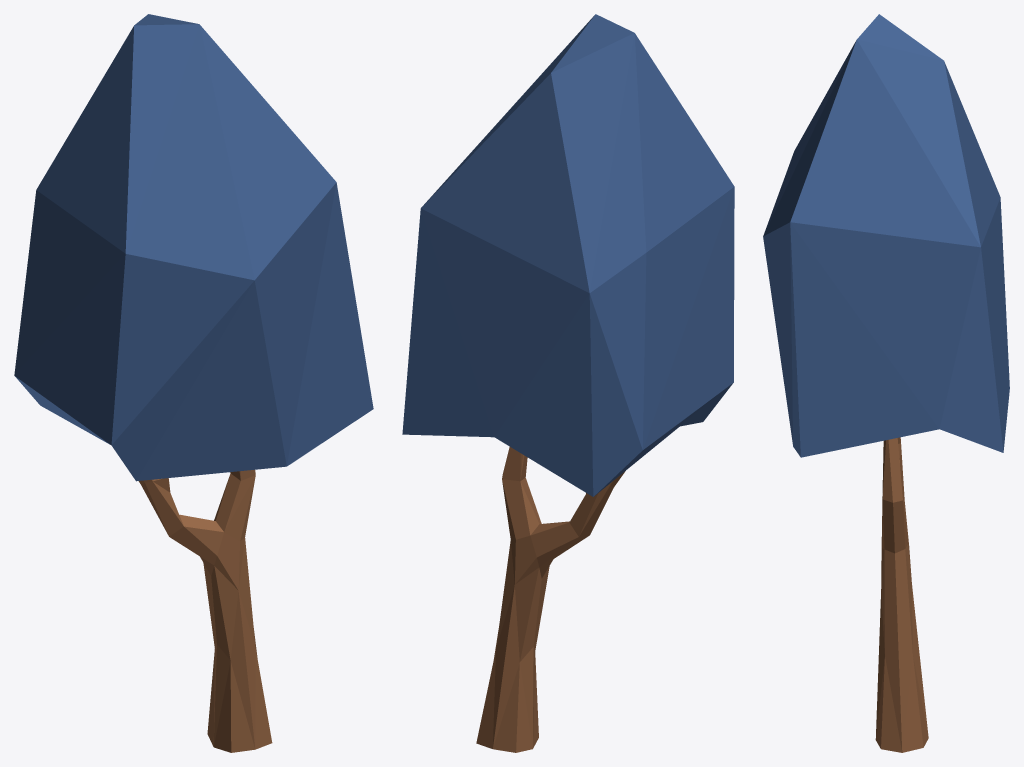
File: tree-winter-complete-7-011.glb
3 renders of one model, left to right at view 1: azimuth 30°, elevation 25°; view 2: azimuth 150°, elevation 25°; view 3: azimuth 270°, elevation 25°, orthographic. The views are drawn at different scales.
Parts seen in each view (by area): view 1: TREE 7.005_206, TREE 7.004_207; view 2: TREE 7.005_206, TREE 7.004_207; view 3: TREE 7.005_206, TREE 7.004_207.
Part boxes in pixels (x1=…): TREE 7.005_206: x1=14, y1=14, x2=373, y2=481; TREE 7.004_207: x1=138, y1=469, x2=272, y2=752; TREE 7.005_206: x1=402, y1=14, x2=734, y2=496; TREE 7.004_207: x1=476, y1=447, x2=625, y2=752; TREE 7.005_206: x1=763, y1=14, x2=1009, y2=457; TREE 7.004_207: x1=875, y1=437, x2=928, y2=752.
Size of the model in its own units: 0.7087 by 1.95 by 0.6447.
